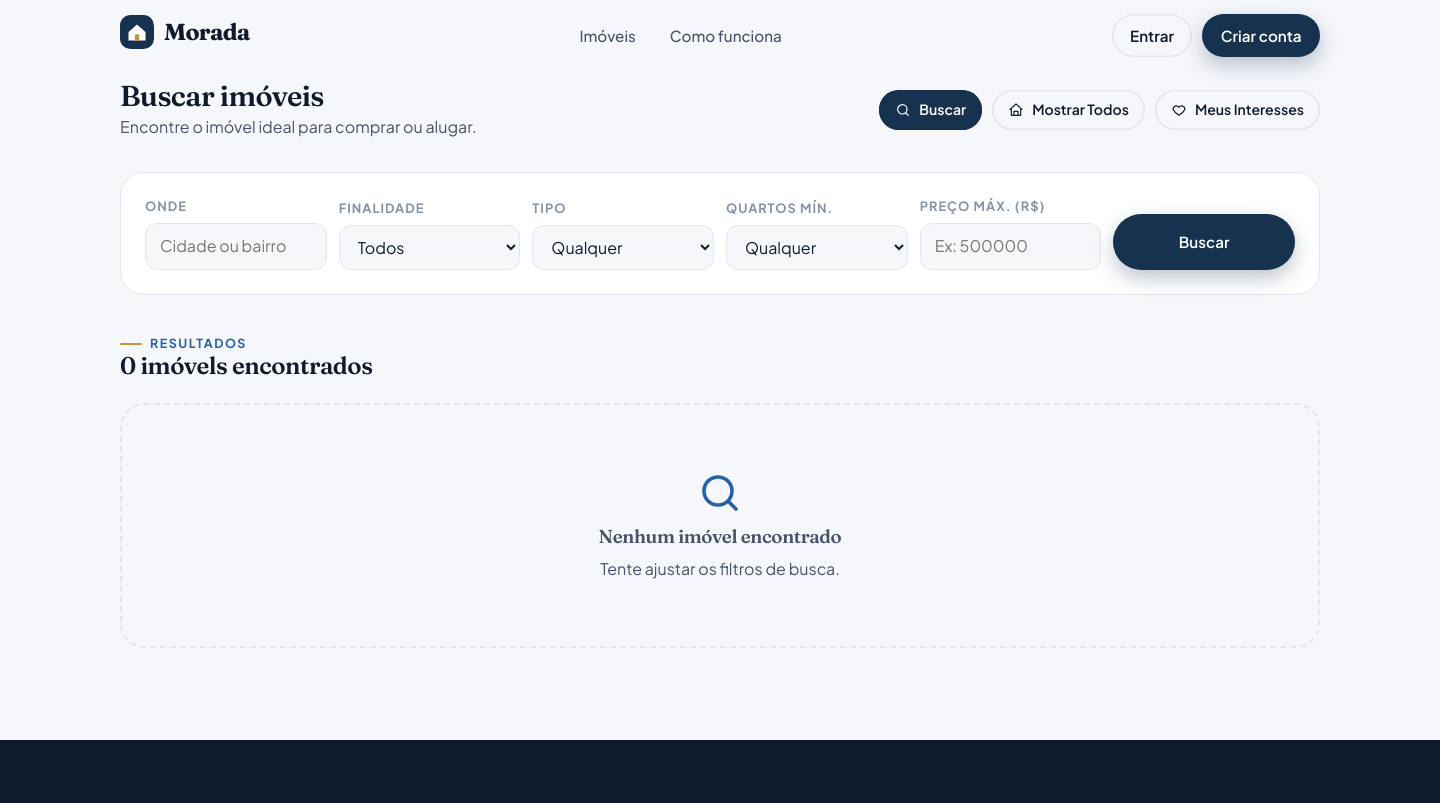
Scenario: Tela de Busca de Imóveis (BuscaComprador.jsx) › deve carregar e exibir a lista inicial de imóveis
The image size is (1440, 803).
Click the button "Mostrar Todos" at (1069,110), box [992, 90, 1145, 130]
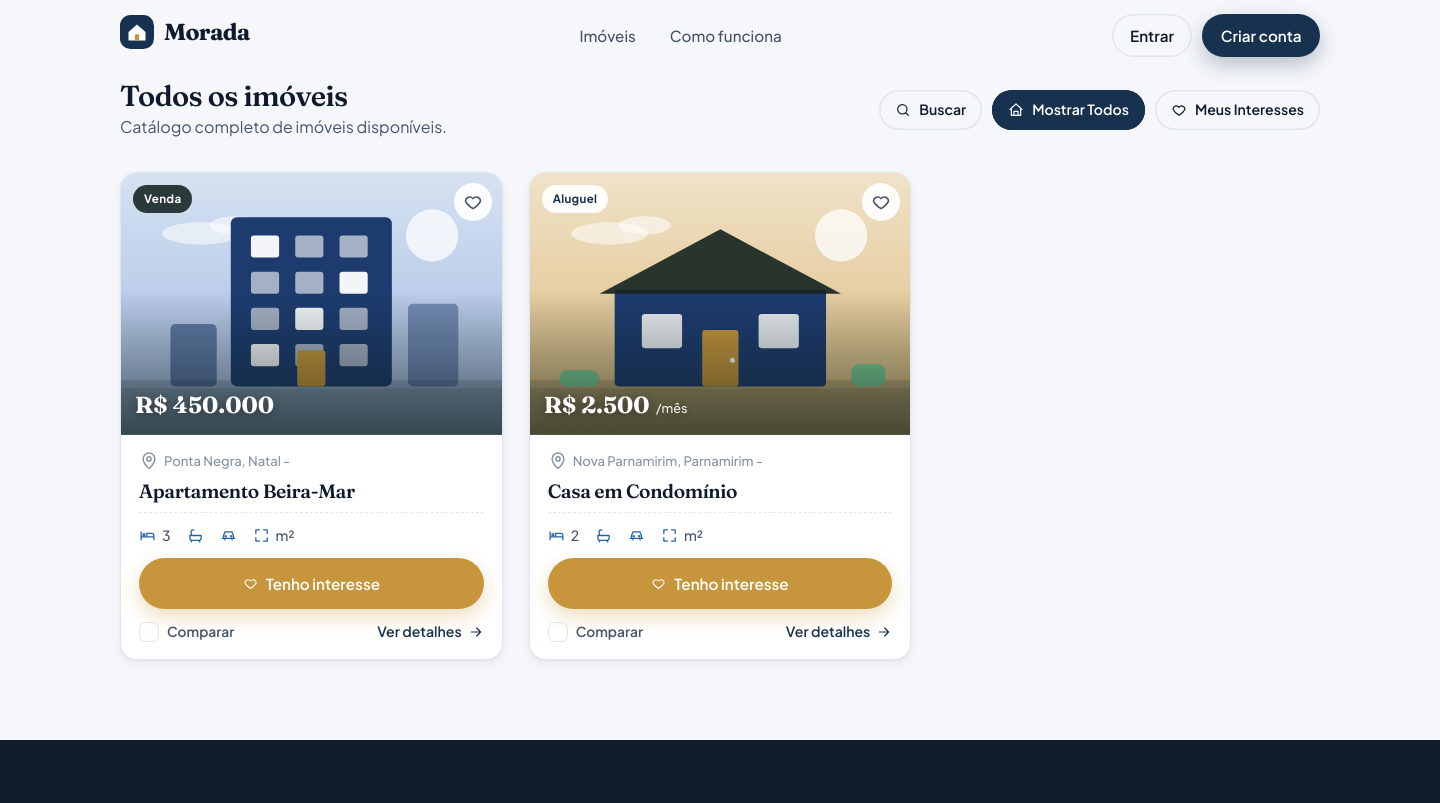
Expected: the heading "Apartamento Beira-Mar" is shown, [139, 479, 355, 503]
Expected: the heading "Casa em Condomínio" is shown, [548, 479, 737, 503]
Expected: the heading "Todos os imóveis" is shown, [120, 78, 348, 113]
